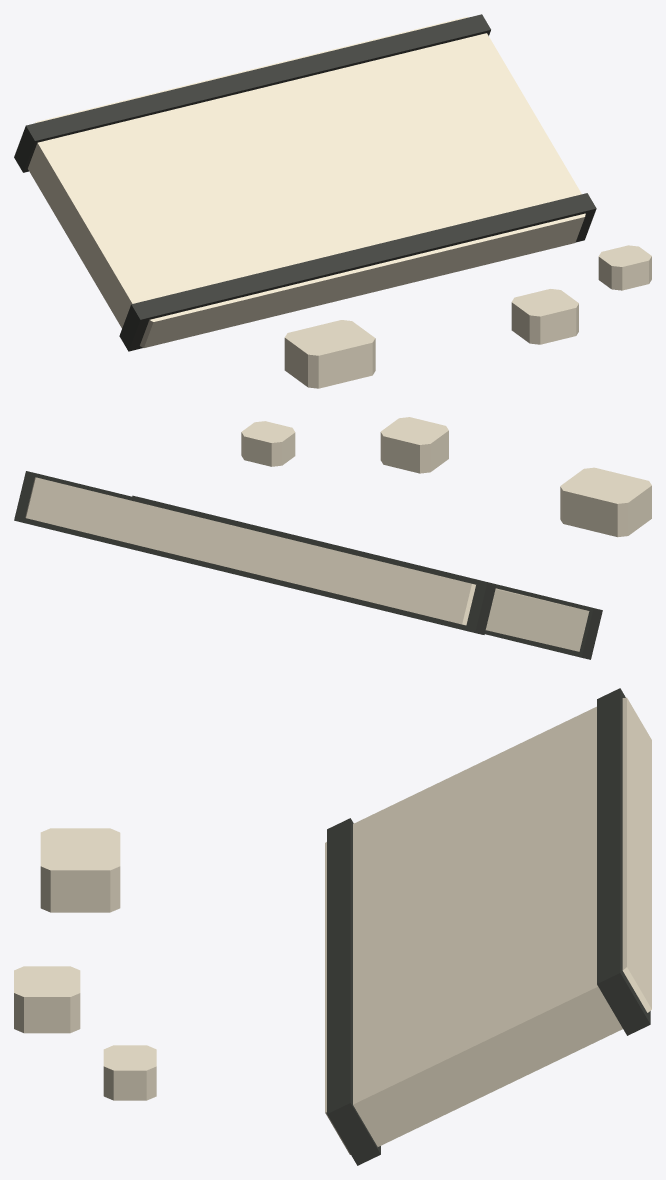
Rendered from panel_fallen.glb.
The picture shows the model from 3 angles, top to bottom: view 1: azimuth 30°, elevation 25°; view 2: azimuth 150°, elevation 25°; view 3: azimuth 270°, elevation 25°; orthographic projection. The views are drawn at different scales.
Parts seen in each view (by area): view 1: panel_fallen; view 2: panel_fallen; view 3: panel_fallen.
Boxes of the visible parts, x1,y1,x2,y2 form: panel_fallen: [14, 14, 651, 388]; panel_fallen: [14, 417, 651, 659]; panel_fallen: [14, 688, 651, 1165].
Size of the model in its own units: 2.03 by 0.6416 by 1.92.
